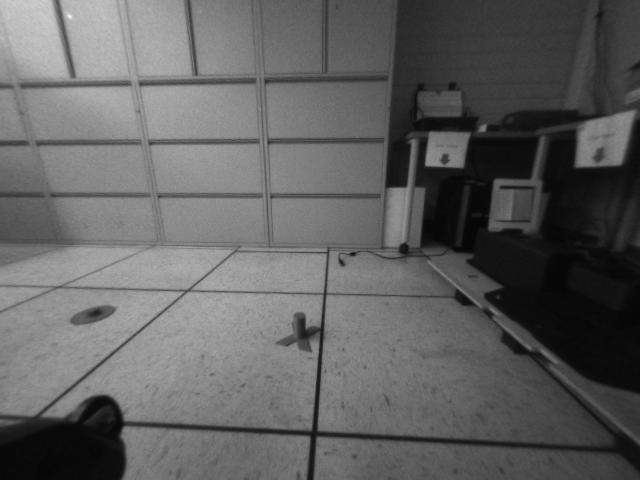X: (274, 311, 320, 354)
